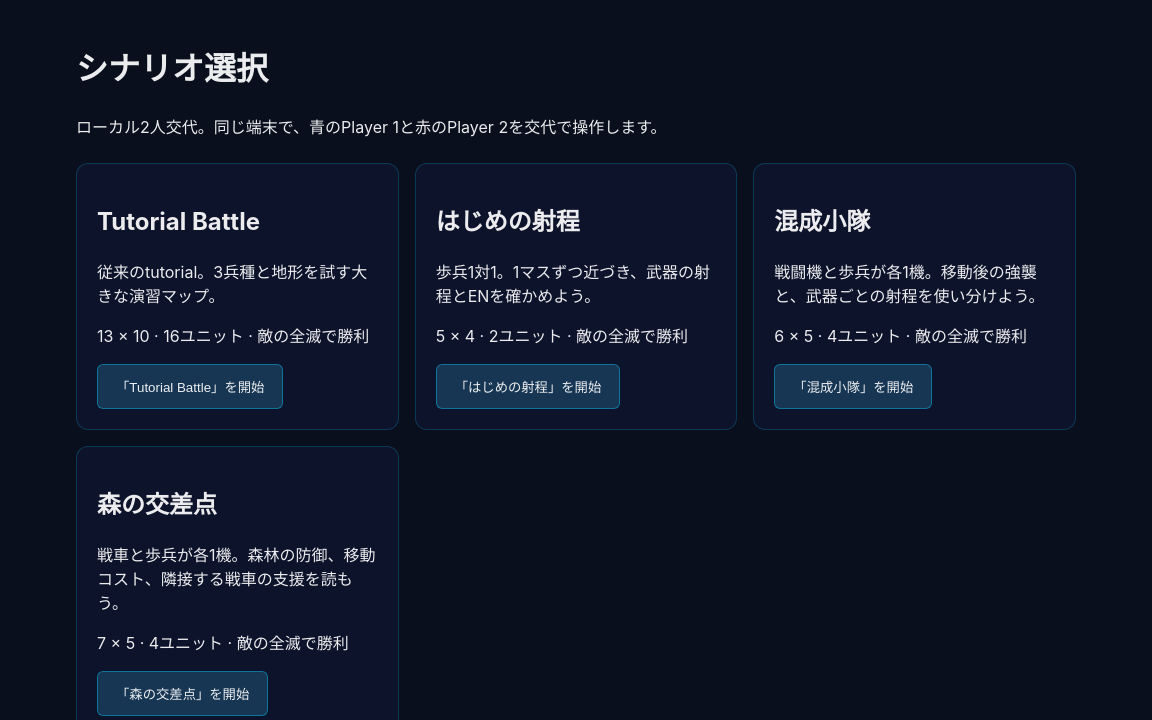
Test case: keeps the match playable and reports unavailable save storage
Click the button "「はじめの射程」を開始".
click(528, 386)  # box [436,364,620,409]
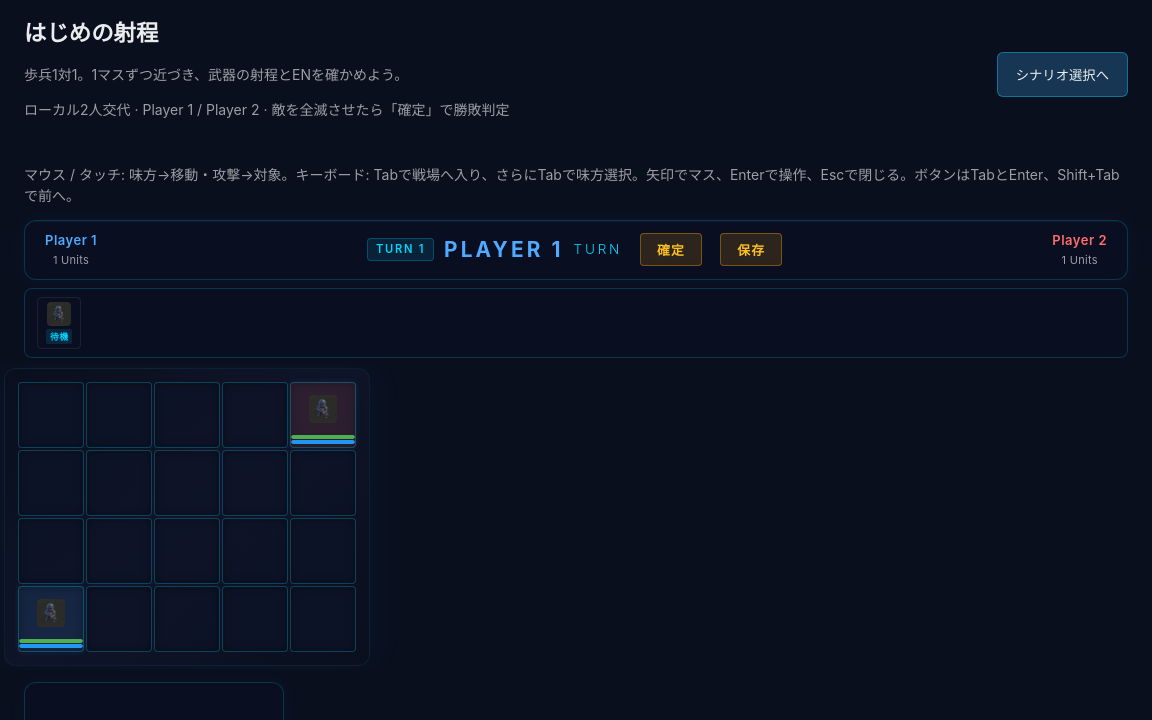
Click the button "保存".
click(751, 250)  # box [720,233,782,266]
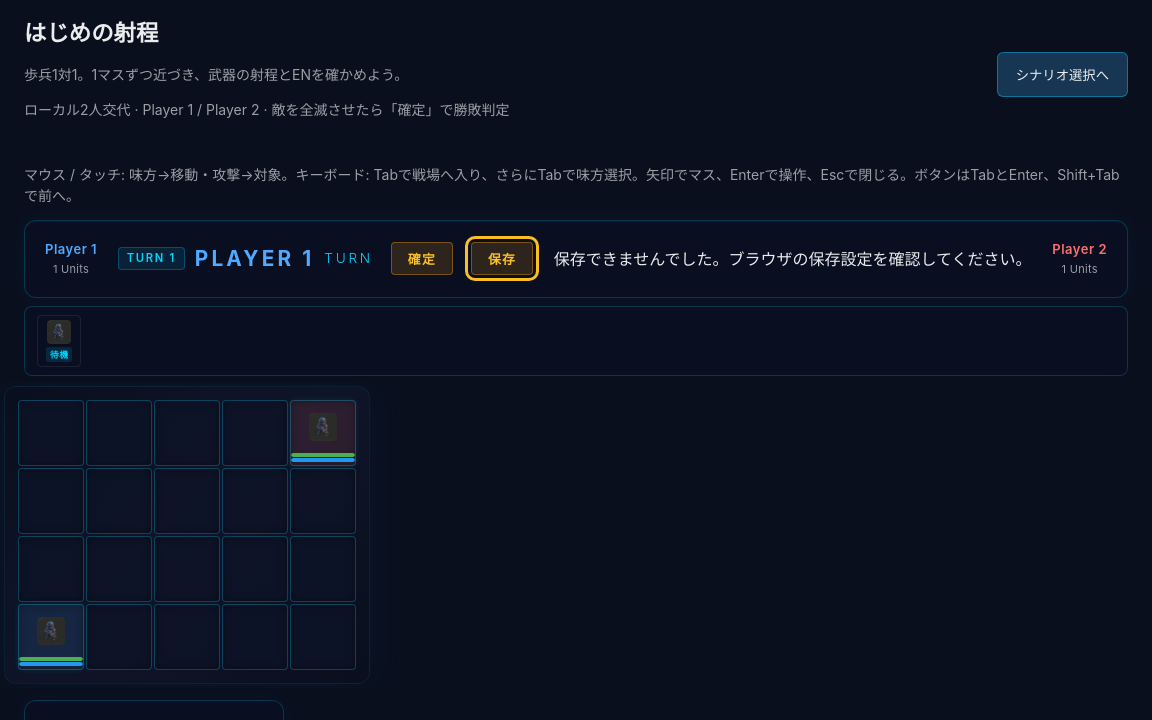
expect the button "確定" is enabled: met, box [391,242,453,275]
expect the message shows "保存できませんでした": met, box [554,249,1032,269]
